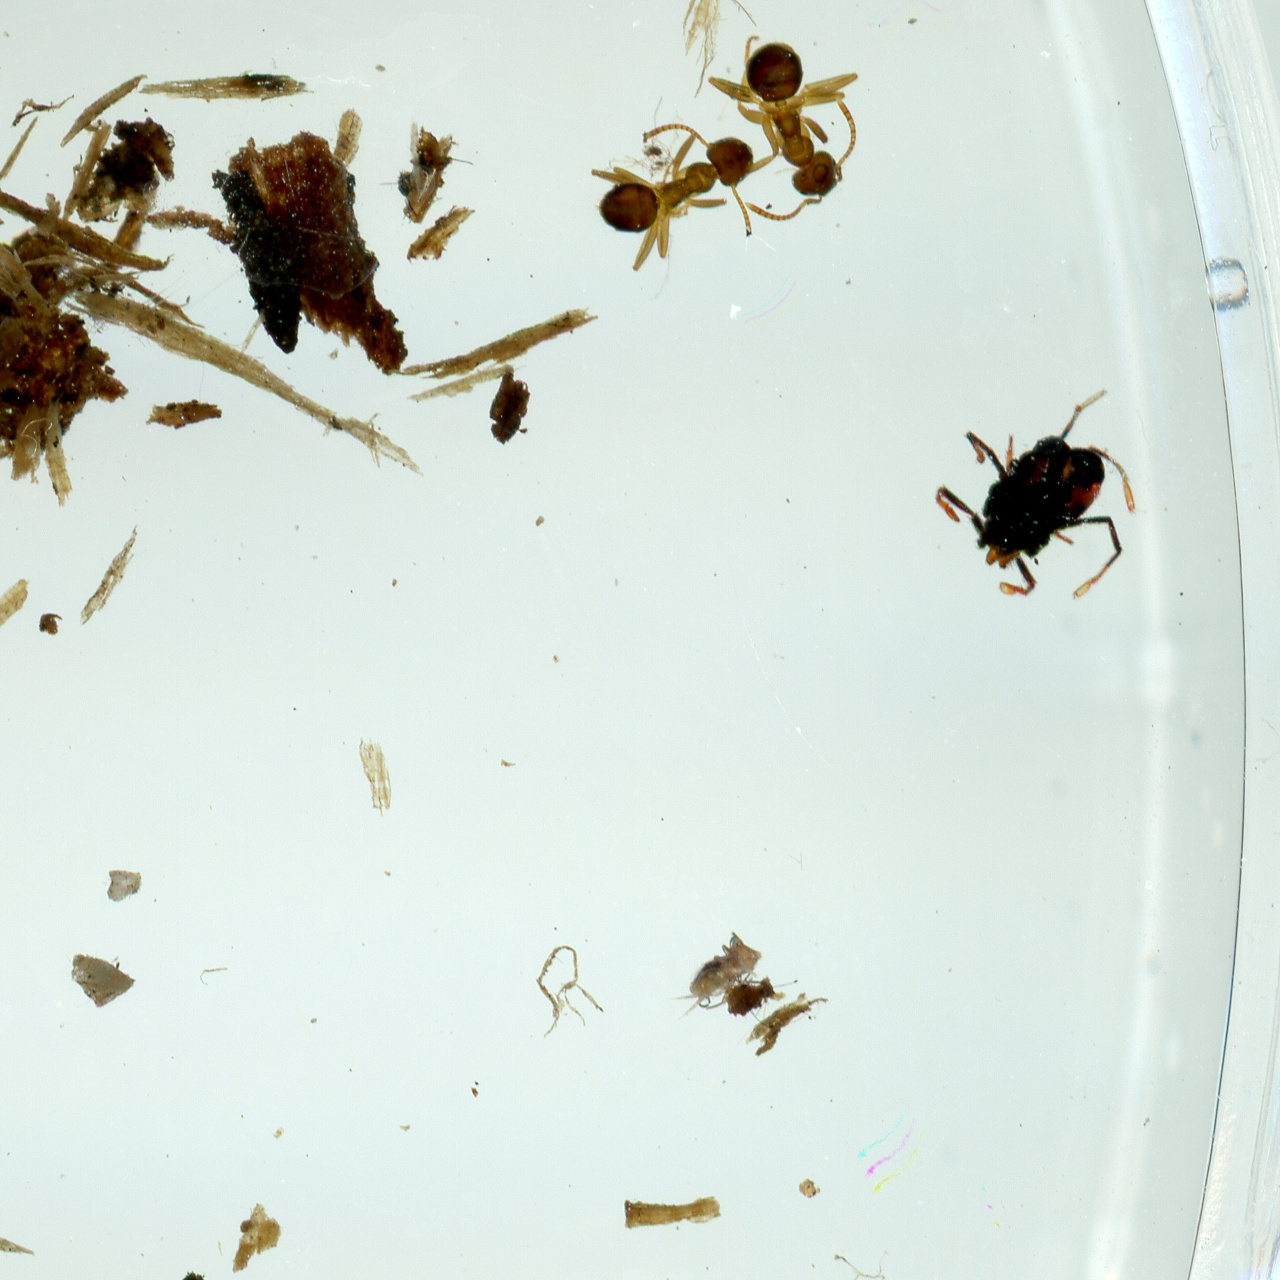arthropod: (929, 383, 1141, 606), (700, 17, 883, 233), (587, 120, 757, 274), (652, 923, 774, 1037)
